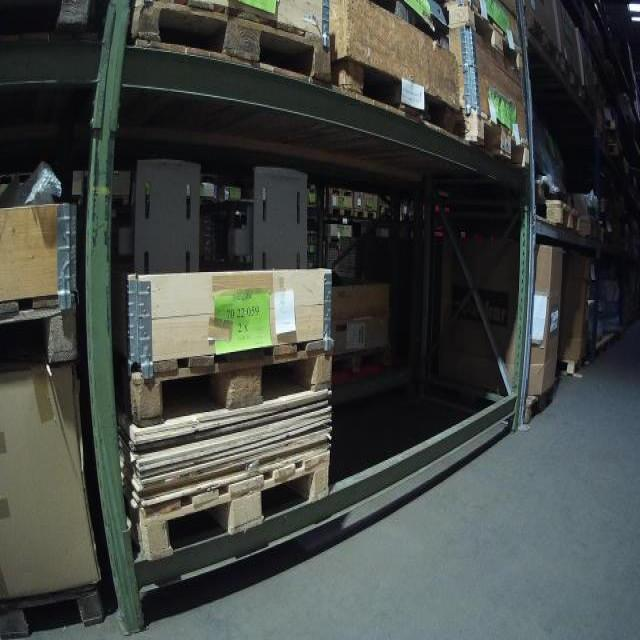pallet: (134, 449, 332, 563), (124, 335, 335, 430), (128, 0, 332, 86), (330, 51, 456, 134), (0, 288, 81, 375), (0, 579, 106, 640), (446, 3, 526, 68), (457, 106, 532, 171), (330, 345, 396, 379), (524, 3, 560, 62), (537, 194, 582, 234), (523, 381, 554, 422), (554, 49, 576, 89), (559, 357, 590, 374), (328, 185, 354, 199), (327, 204, 354, 217), (354, 209, 377, 222)
